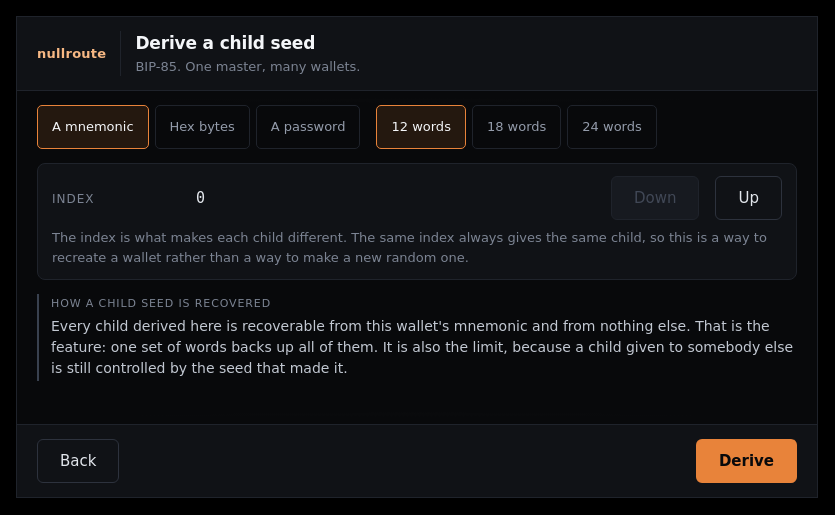
Test: ChildSeedScreen › reports-a-refusal-rather-than-showing-an-empty-child
Click the button with test id "child-derive". click: (746, 461)
box: [696, 439, 797, 483]
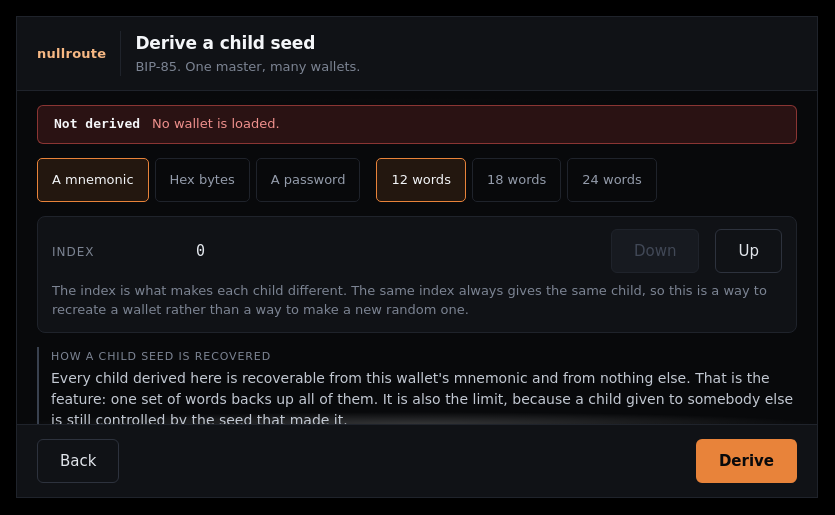
Expected: the element with test id "child-error" shows "No wallet is loaded", [152, 116, 280, 131]
